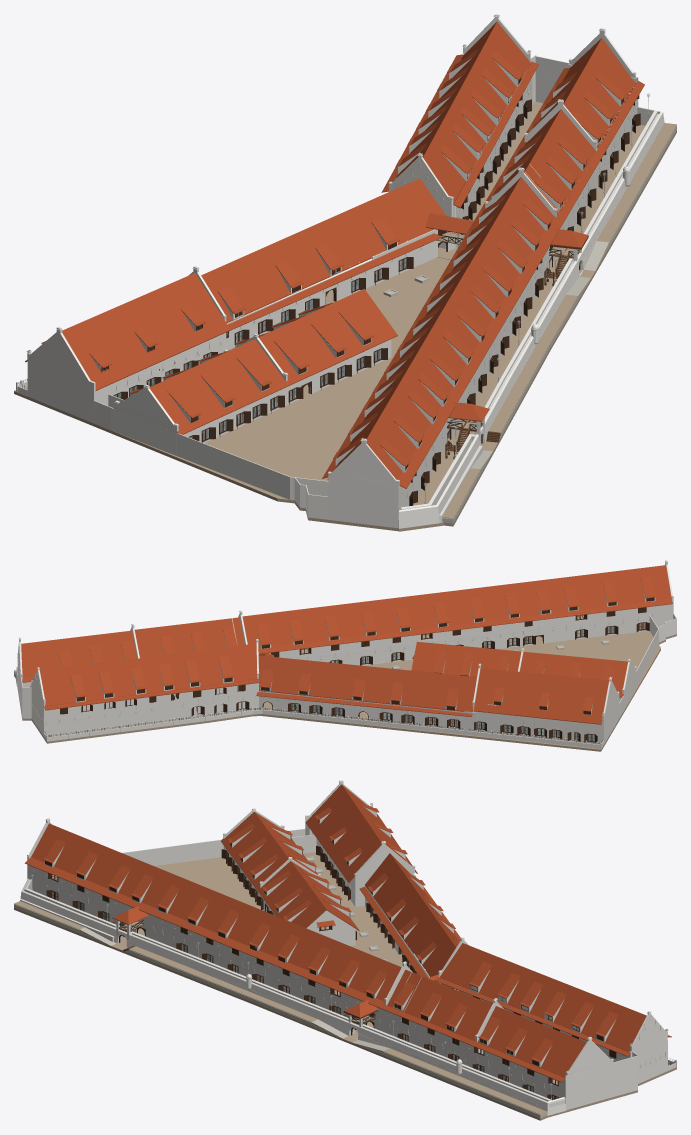
3 renders of one model, top to bottom at view 1: azimuth 30°, elevation 25°; view 2: azimuth 150°, elevation 25°; view 3: azimuth 270°, elevation 25°, orthographic. The views are drawn at different scales.
Parts seen in each view (by area): view 1: atap, kaca; view 2: atap, kaca; view 3: atap, kaca.
Part boxes in pixels (bbox=[...]): atap: bbox=[14, 14, 676, 531]; kaca: bbox=[115, 93, 649, 486]; atap: bbox=[14, 560, 676, 751]; kaca: bbox=[291, 626, 614, 741]; atap: bbox=[14, 780, 676, 1120]; kaca: bbox=[31, 848, 557, 1099].
Size of the model in its own units: 138 by 15.71 by 137.
Materials: 2 (2 with a texture image).
